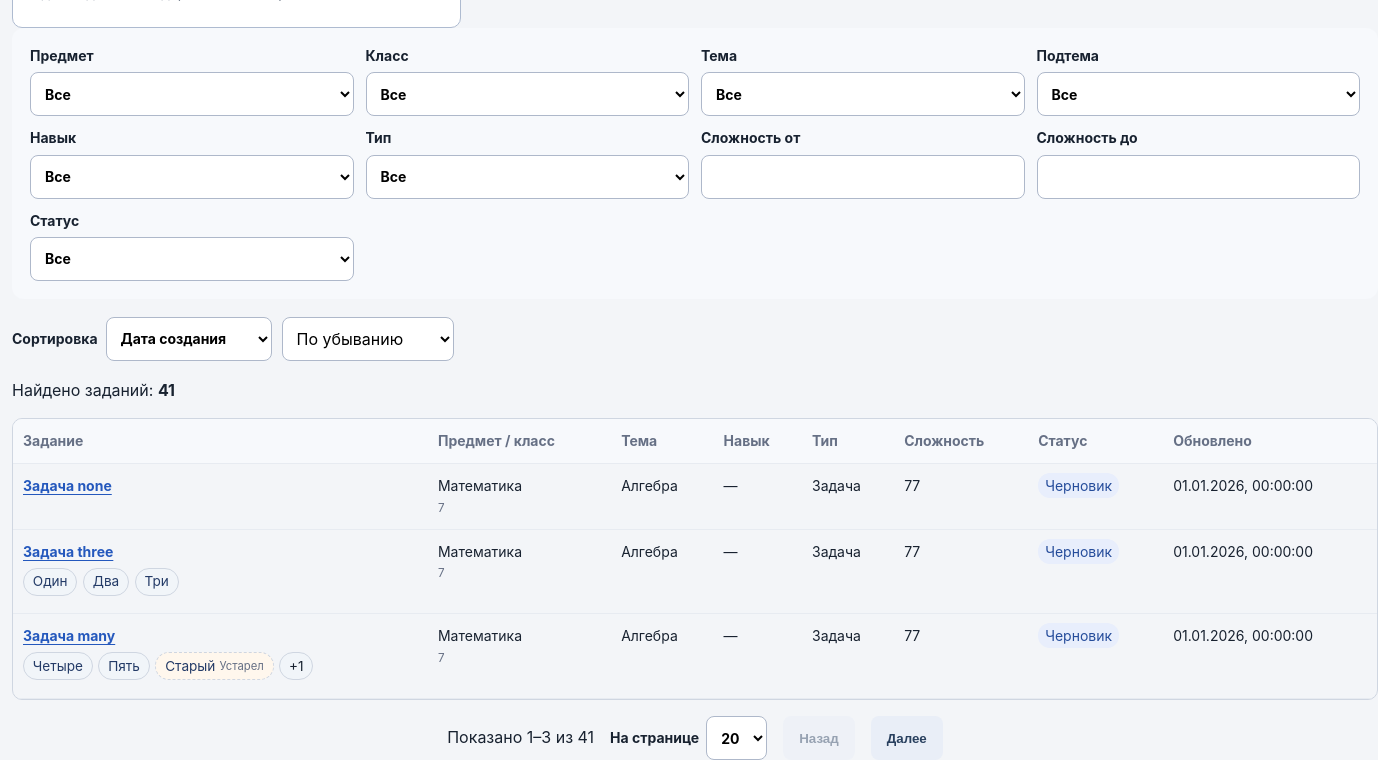
Scenario: global task tag boundaries › pagination request preserves both selected IDs
(page scrolled)
Click the button "Далее" at (907, 738), box left=871, top=716, right=943, bottom=759
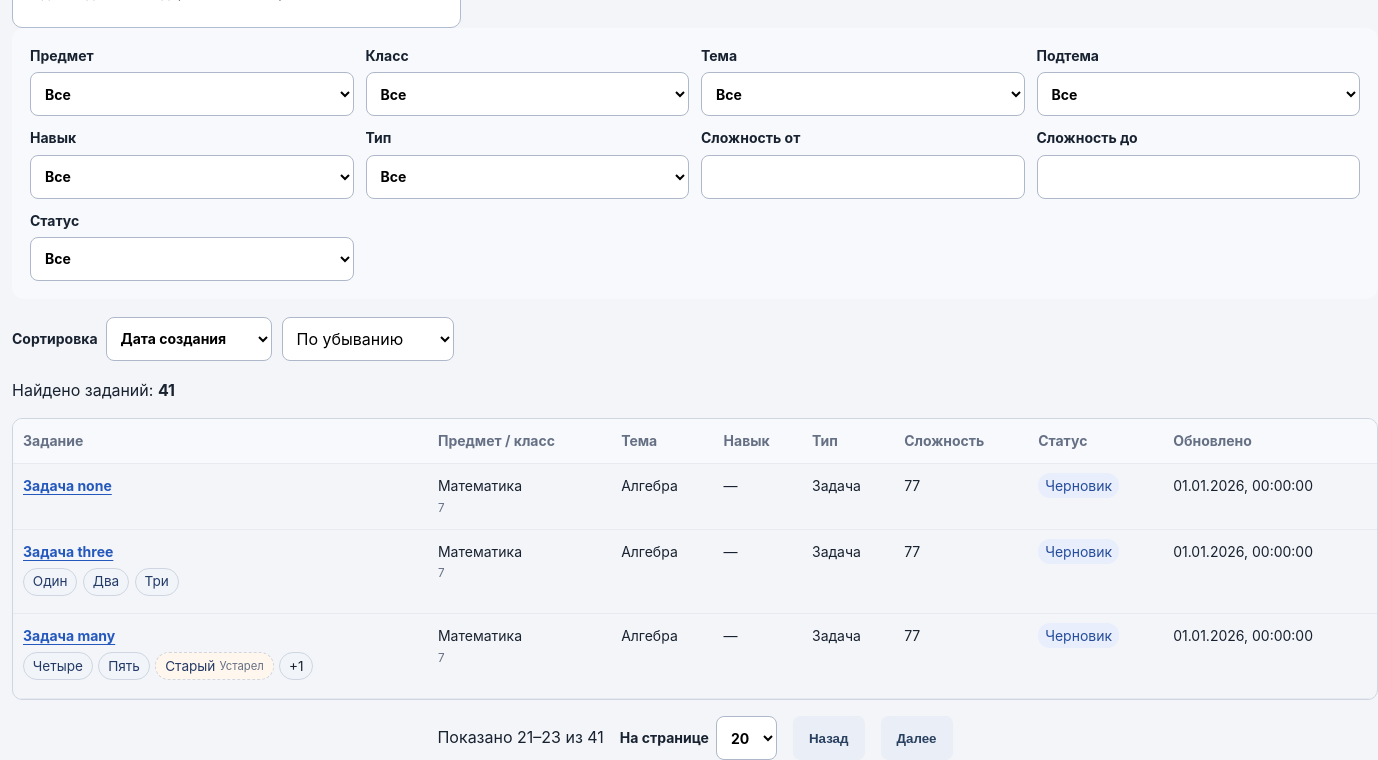
expect the text "Показано 21–23 из 41" is shown: met, box left=438, top=726, right=604, bottom=750
